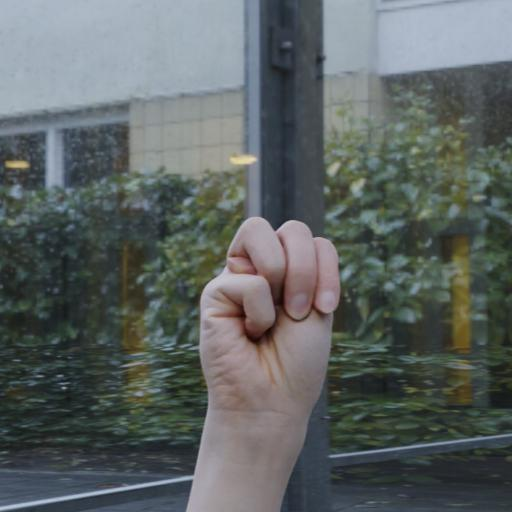M: (171, 202, 354, 512)
